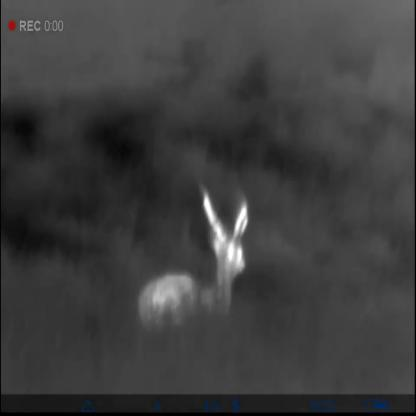rehkitze: (134, 184, 249, 337)
